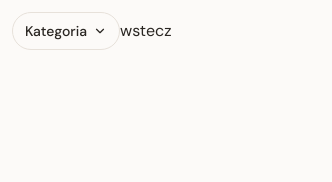
Test: MultiFilterDropdown — wybór optymistyczny przy zapisie przejściem (AF-5-065) › „wyczyść” w trakcie przejścia wygrywa z optymizmem
Click the button "Kategoria". click: (66, 31)
box: [12,12,120,50]
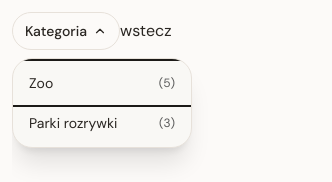
Click the option "Zoo (5)". click: (102, 83)
box: [13,63,191,103]
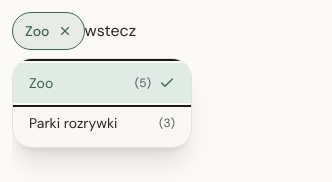
Click the 1st icon. click: (64, 31)
box: [58,24,72,38]
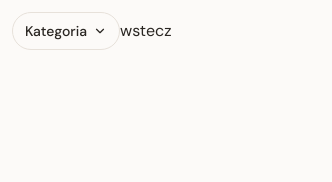
Result: the button "Kategoria" is shown at [12,12,120,50]
